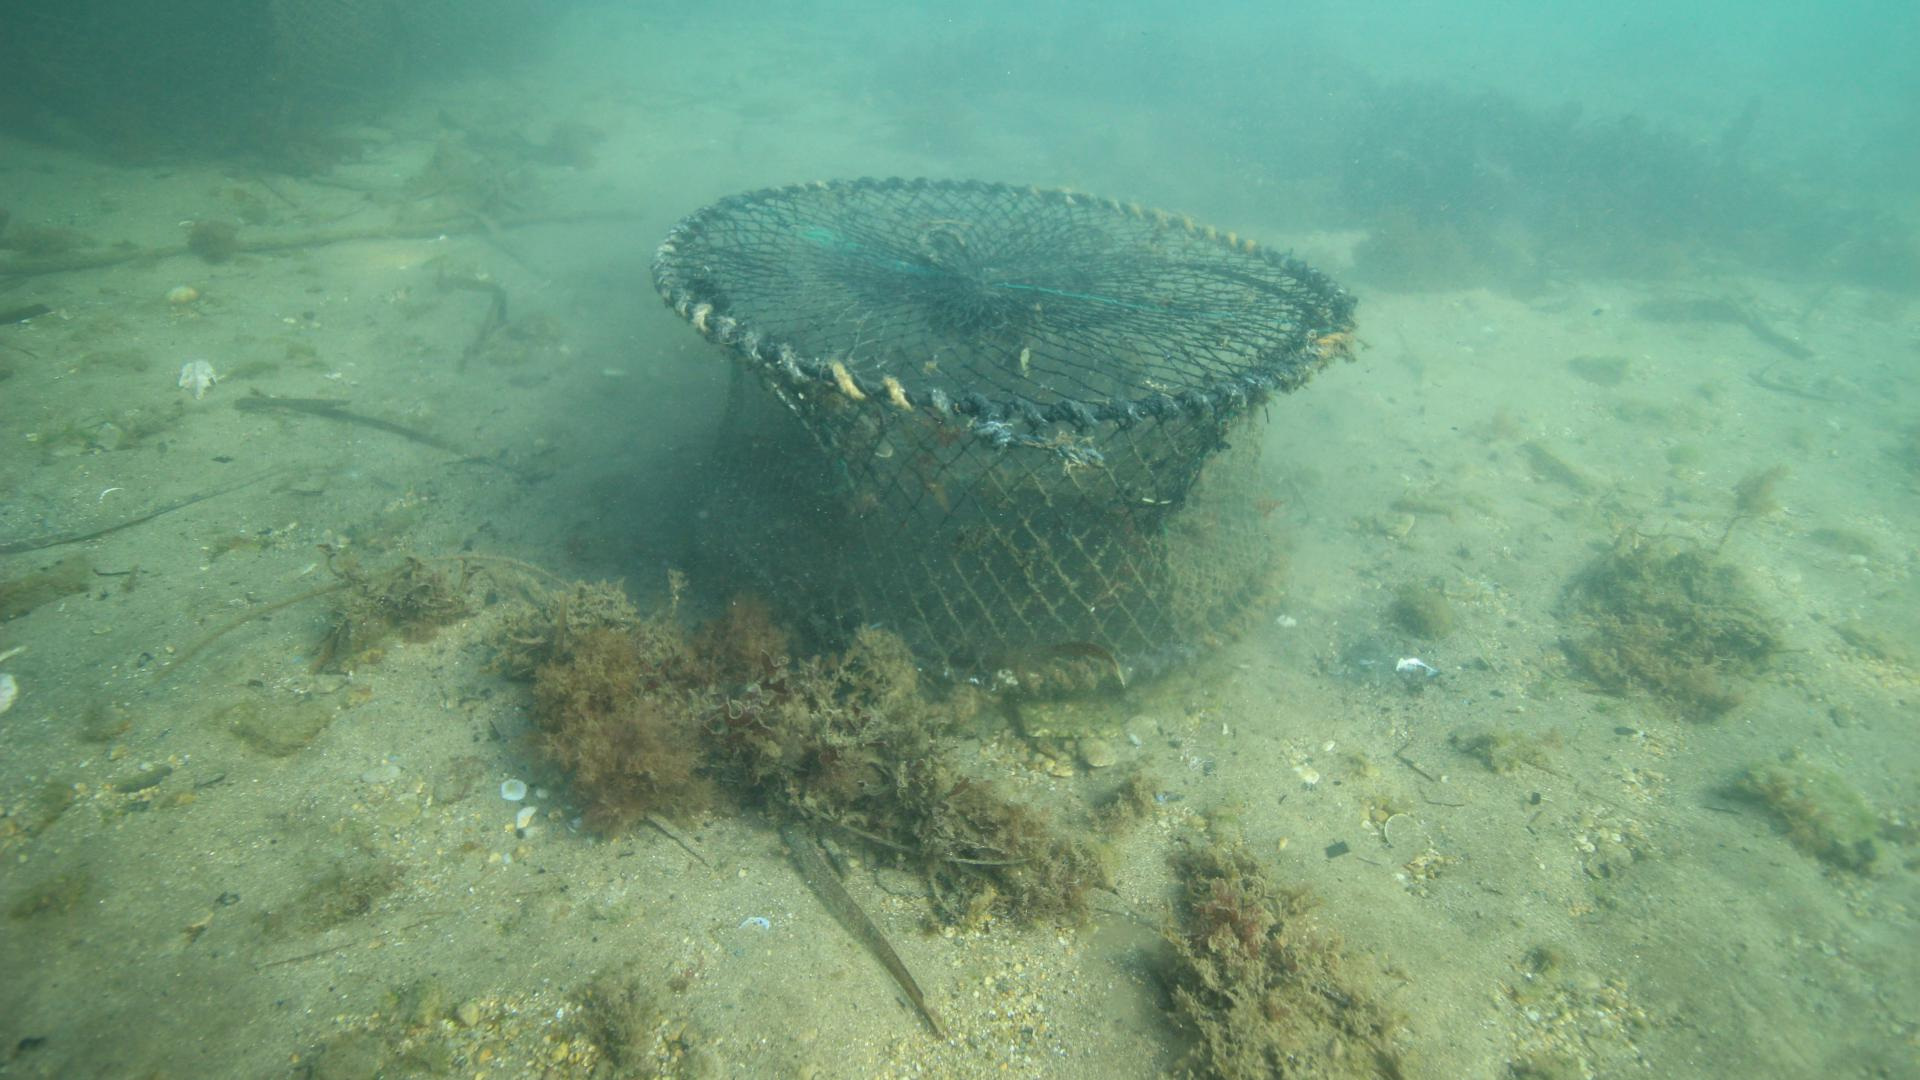circular fish trap: (653, 175, 1360, 696)
